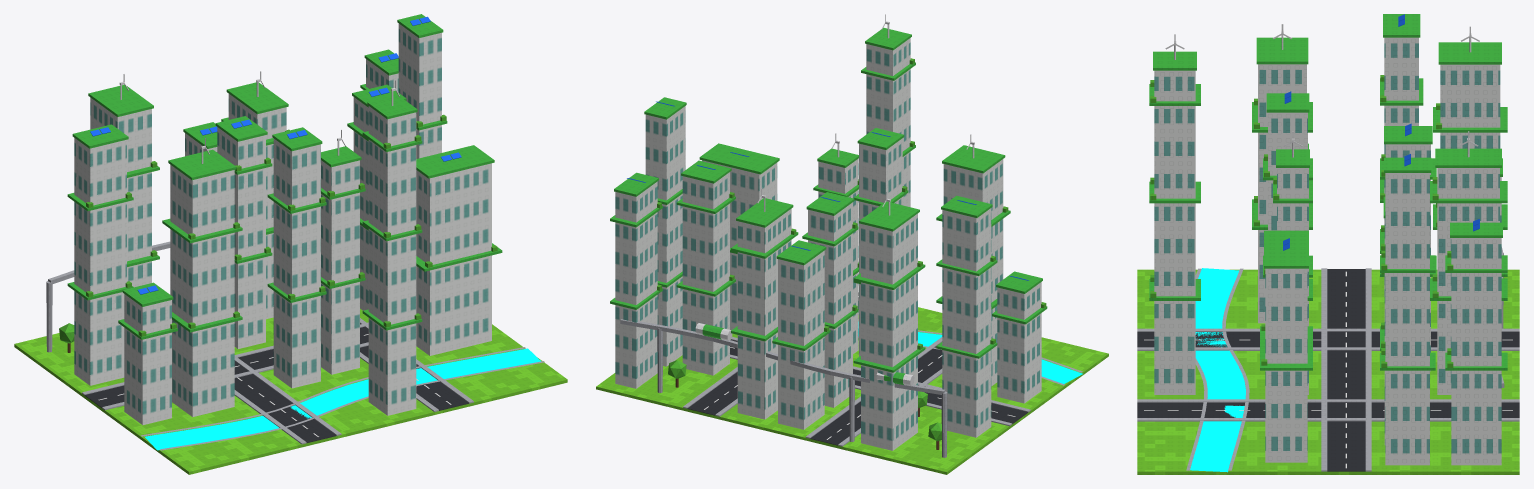
File: Ville_07.glb
The picture shows the model from 3 angles, left to right: view 1: azimuth 30°, elevation 25°; view 2: azimuth 150°, elevation 25°; view 3: azimuth 270°, elevation 25°; orthographic projection. The views are drawn at different scales.
Parts seen in each view (by area): view 1: Ville_07; view 2: Ville_07; view 3: Ville_07.
Boxes of the visible parts, left/top/right/bottom form: Ville_07: left=14, top=14, right=567, bottom=474; Ville_07: left=596, top=14, right=1108, bottom=474; Ville_07: left=1137, top=14, right=1519, bottom=474.
Bounding box in the file's own units: 40.41 × 33.05 × 32.
11 materials, 8 textured.
